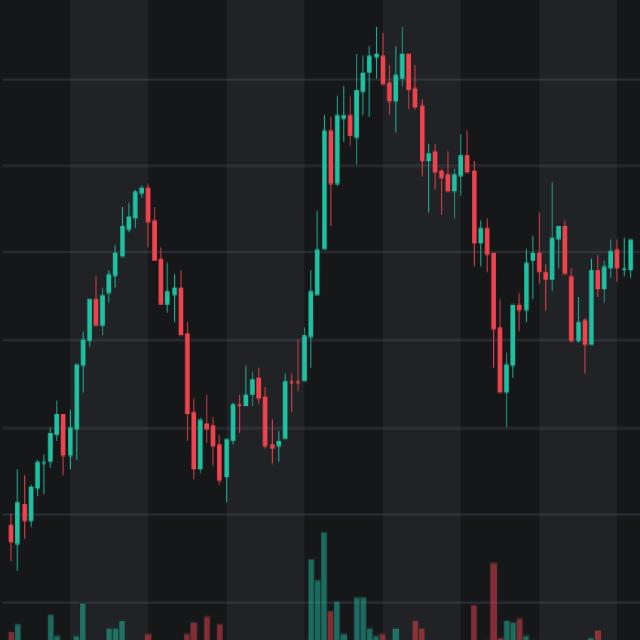Resistance-Emerging: (310, 21, 640, 439)
